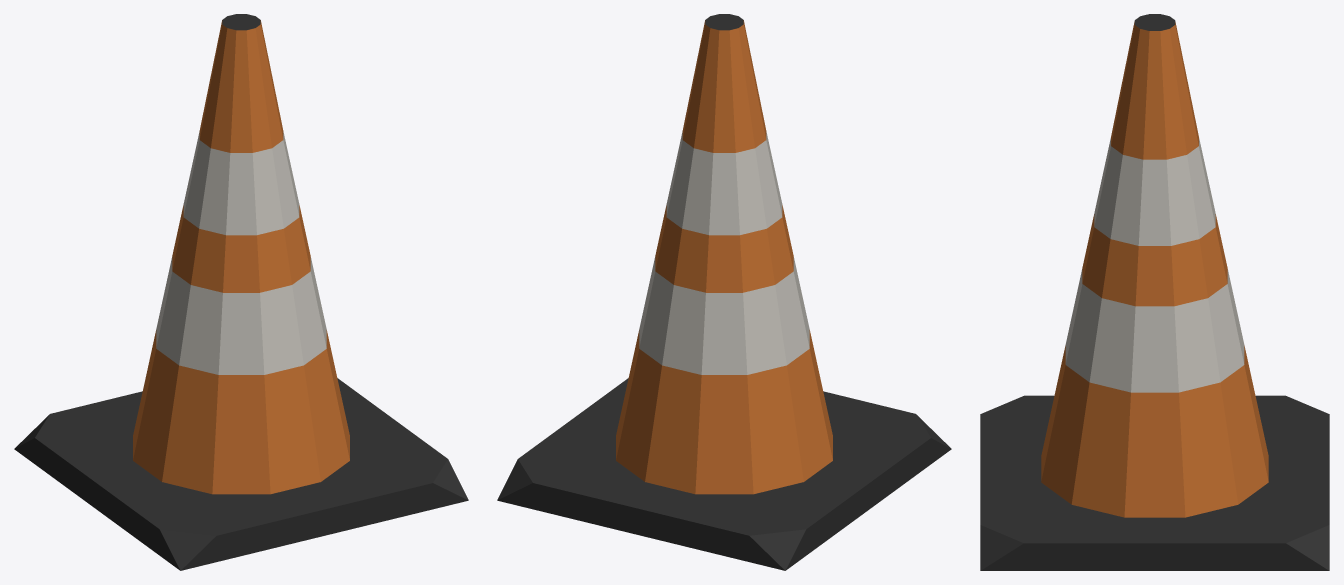
The model's file is trafik_konisi.glb.
3 renders of one model, left to right at view 1: azimuth 30°, elevation 25°; view 2: azimuth 150°, elevation 25°; view 3: azimuth 270°, elevation 25°, orthographic. The views are drawn at different scales.
Visible parts, largest first — view 1: trafik_konisi; view 2: trafik_konisi; view 3: trafik_konisi.
Part boxes in pixels (x1,y1,x2,y2): trafik_konisi: [14, 14, 468, 570]; trafik_konisi: [497, 14, 951, 570]; trafik_konisi: [980, 14, 1329, 570].
Size of the model in its own units: 0.4 by 0.6 by 0.4.
